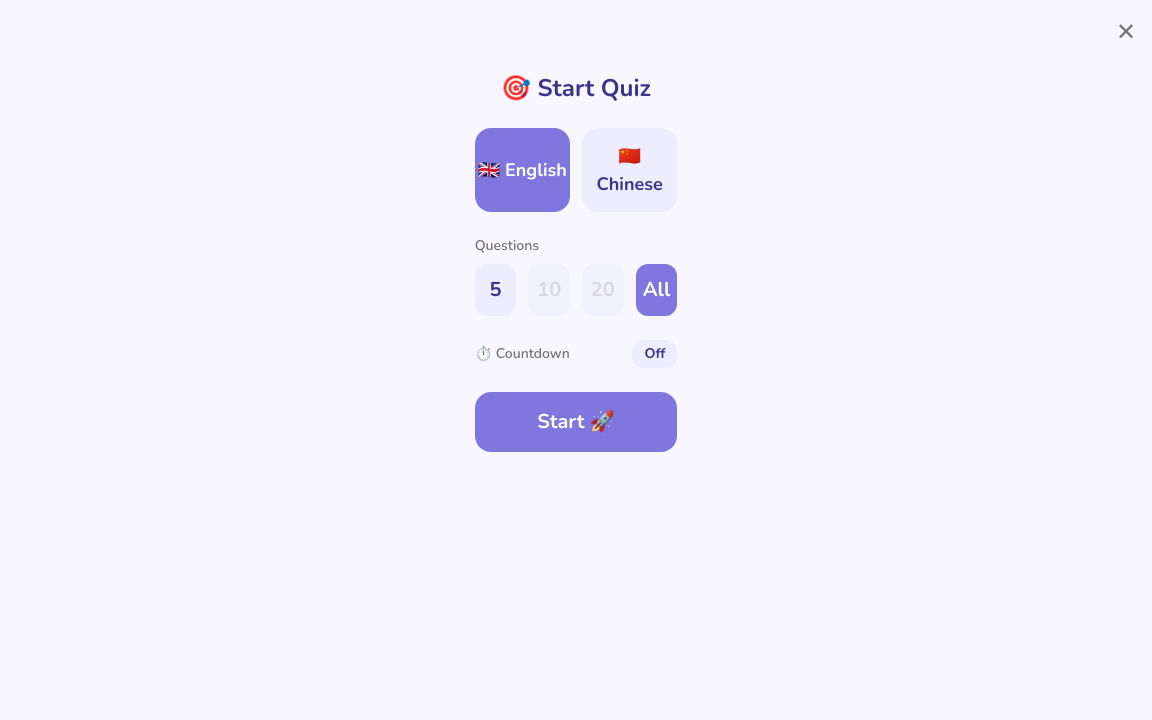
Test: QuizMode — Question phase › renders first question after Start is clicked
Click the button "Start 🚀" at [576, 422], box [475,392,677,452]
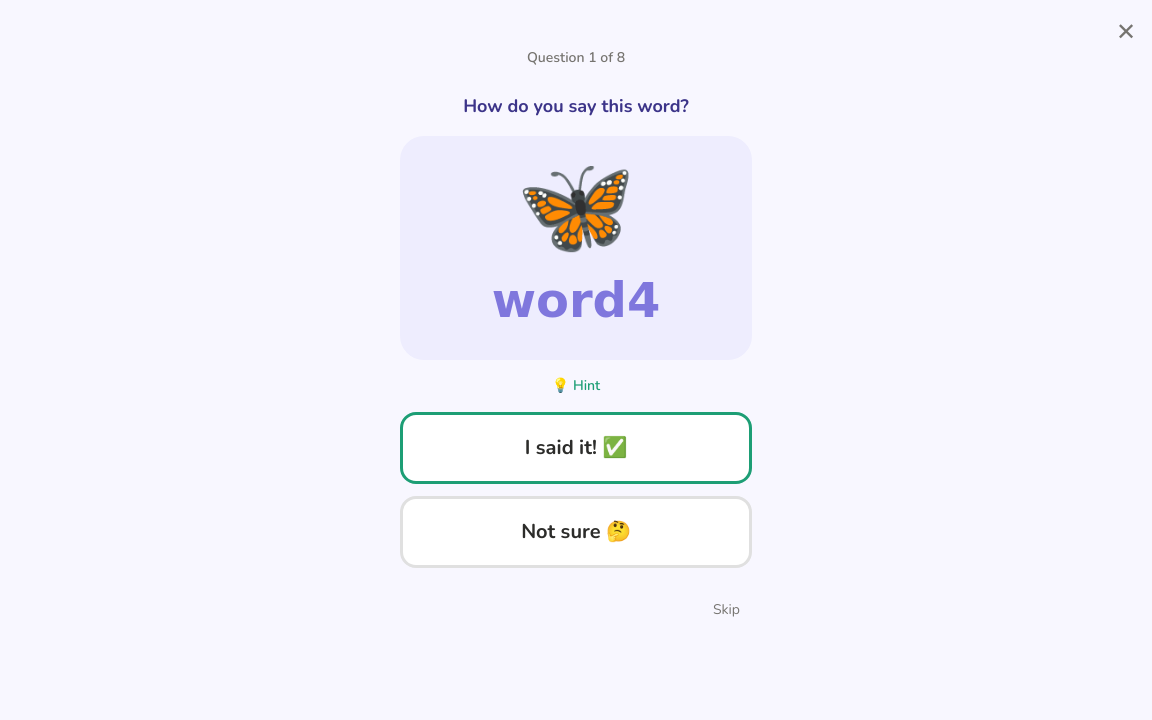
Now the heading "Start" is gone
Now the text "Question 1 of 8" is shown, box [527,48,625,67]
